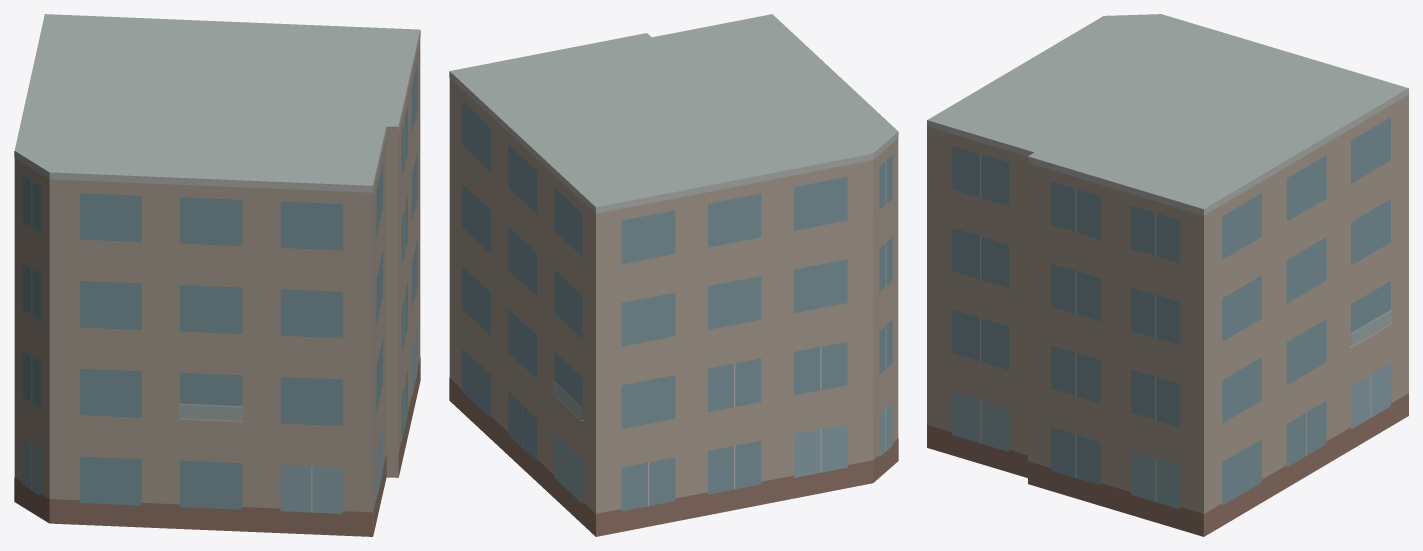
Rendered from survey-upis-32856566.glb.
3 renders of one model, left to right at view 1: azimuth 30°, elevation 25°; view 2: azimuth 150°, elevation 25°; view 3: azimuth 270°, elevation 25°, orthographic. The views are drawn at different scales.
Parts seen in each view (by area): view 1: survey-upis-32856566.tmp; view 2: survey-upis-32856566.tmp; view 3: survey-upis-32856566.tmp.
Part boxes in pixels (x1=…): survey-upis-32856566.tmp: x1=14, y1=14, x2=420, y2=536; survey-upis-32856566.tmp: x1=449, y1=14, x2=898, y2=536; survey-upis-32856566.tmp: x1=927, y1=14, x2=1408, y2=536.
Bounding box in the file's own units: 15.83 × 12.38 × 16.5.
